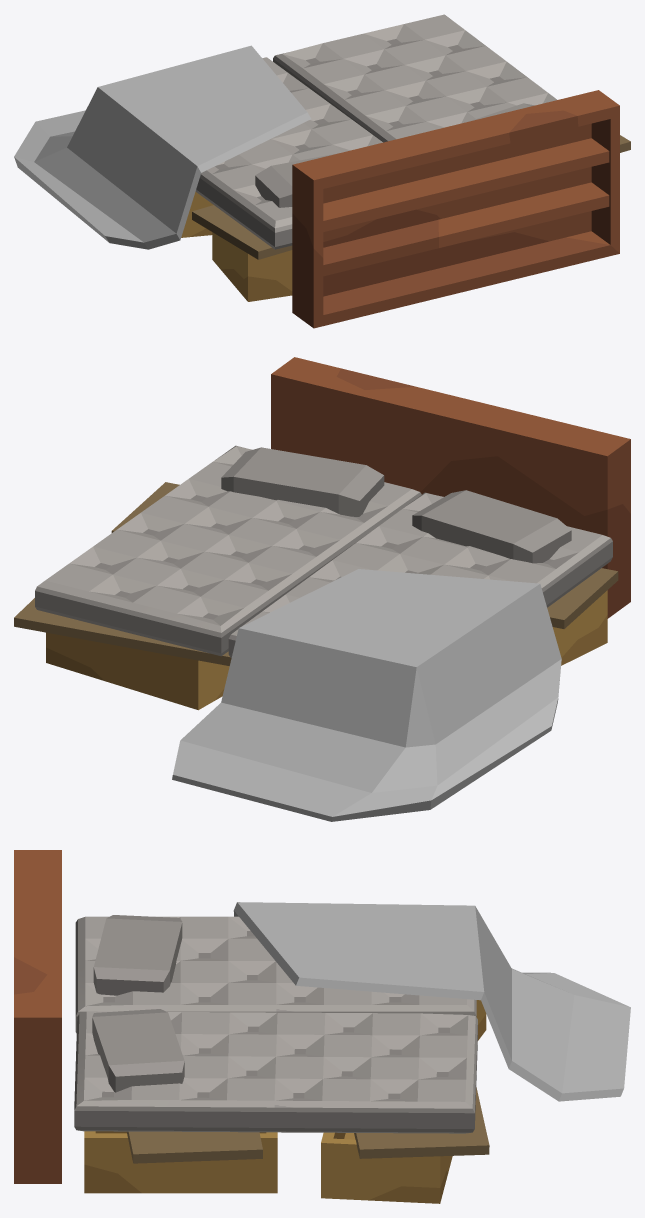
Rendered from AI_Prop_Makeshift_Bed_Double.fbx.
The picture shows the model from 3 angles, top to bottom: view 1: azimuth 30°, elevation 25°; view 2: azimuth 150°, elevation 25°; view 3: azimuth 270°, elevation 25°; orthographic projection. The views are drawn at different scales.
Parts seen in each view (by area): view 1: AI_Prop_Makeshift_Bed_Double; view 2: AI_Prop_Makeshift_Bed_Double; view 3: AI_Prop_Makeshift_Bed_Double.
Boxes of the visible parts, x1,y1,x2,y2 form: AI_Prop_Makeshift_Bed_Double: (14, 14, 630, 328); AI_Prop_Makeshift_Bed_Double: (14, 357, 630, 821); AI_Prop_Makeshift_Bed_Double: (14, 850, 630, 1203).
Bounding box in the file's own units: 5.25 × 1.7 × 5.7.
